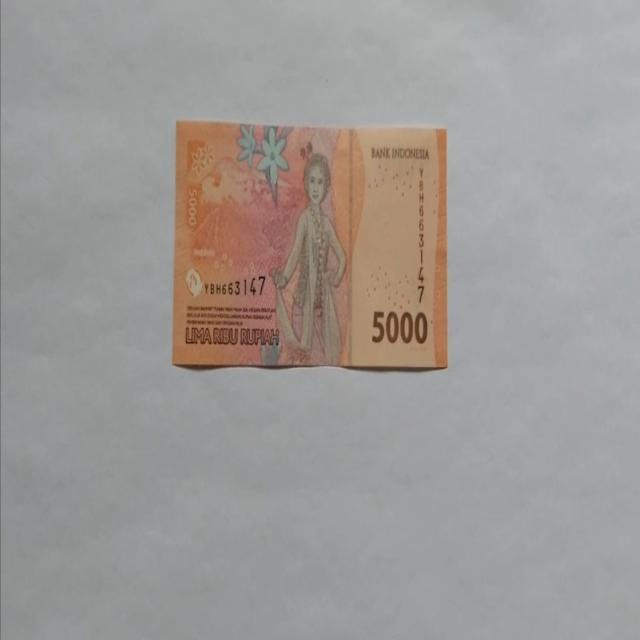lima ribu rupiah: (172, 119, 448, 371), (268, 152, 348, 366)
